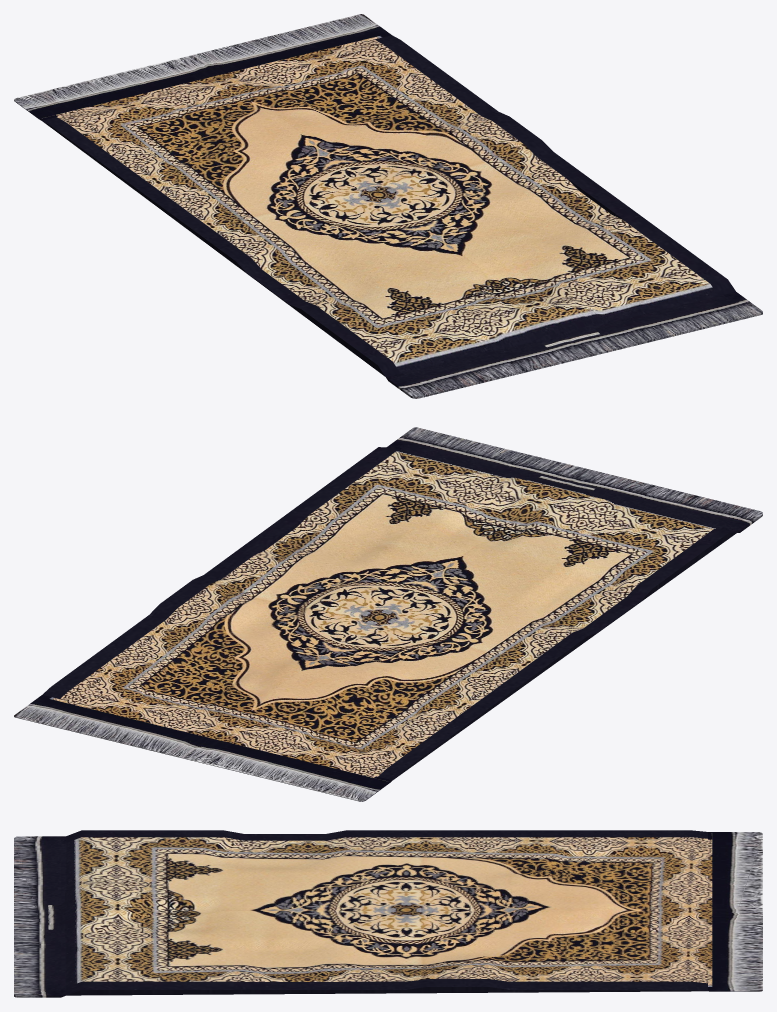
File: prayer_mat.glb
The picture shows the model from 3 angles, top to bottom: view 1: azimuth 30°, elevation 25°; view 2: azimuth 150°, elevation 25°; view 3: azimuth 270°, elevation 25°; orthographic projection. The views are drawn at different scales.
Visible parts, largest first — view 1: Plane.005; view 2: Plane.005; view 3: Plane.005.
Part boxes in pixels (x1,y1,x2,y2): Plane.005: [14, 14, 762, 398]; Plane.005: [14, 427, 762, 801]; Plane.005: [14, 830, 762, 997].
Bounding box in the file's own units: 3.51 × 0.1115 × 6.98.
Materials: 1 (1 with a texture image).
